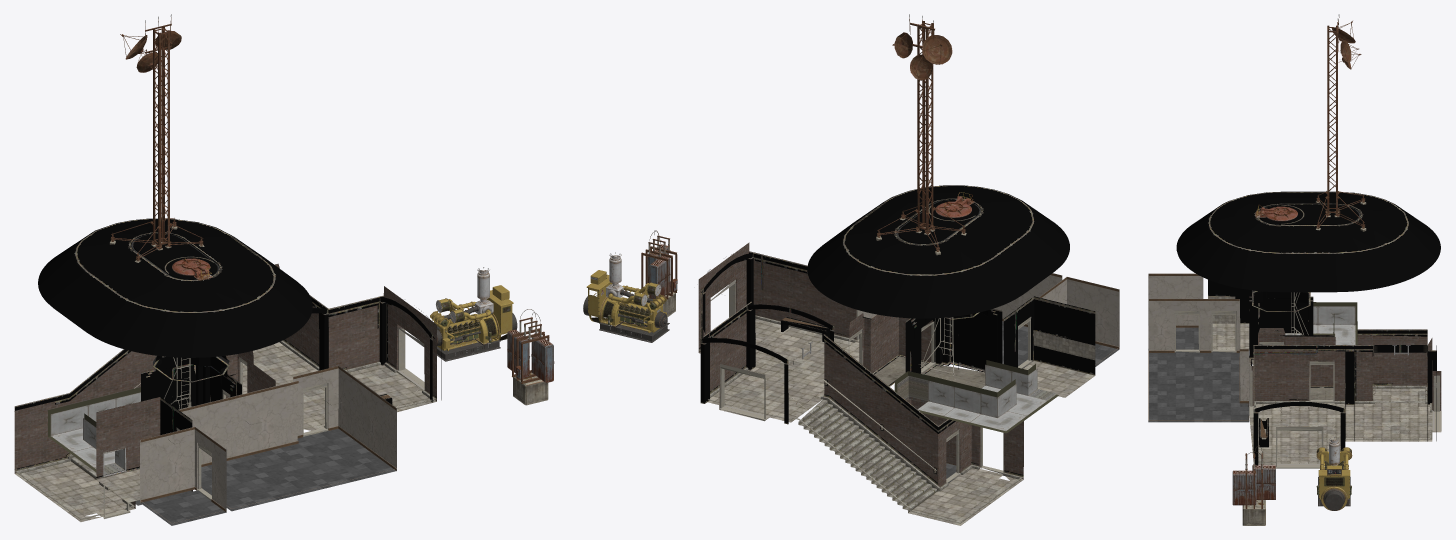
File: entrance_bunker_b-mid.glb
3 views of the same model, side by side, from view 1: azimuth 30°, elevation 25°; view 2: azimuth 150°, elevation 25°; view 3: azimuth 270°, elevation 25° (orthographic). The views are drawn at different scales.
Visible parts, largest first — view 1: stairwell_top_country_b_LOD0, antena_helipad_mast_LOD0, diesel_engine_LOD0, substation_c_LOD0, bunker_hatch; view 2: stairwell_top_country_b_LOD0, antena_helipad_mast_LOD0, diesel_engine_LOD0, substation_c_LOD0, bunker_hatch; view 3: stairwell_top_country_b_LOD0, antena_helipad_mast_LOD0, diesel_engine_LOD0, substation_c_LOD0, bunker_hatch.
Boxes of the visible parts, left/top/right/bottom form: stairwell_top_country_b_LOD0: left=14, top=218, right=441, bottom=525; antena_helipad_mast_LOD0: left=109, top=14, right=549, bottom=405; diesel_engine_LOD0: left=430, top=267, right=517, bottom=361; substation_c_LOD0: left=507, top=309, right=554, bottom=382; bunker_hatch: left=172, top=258, right=212, bottom=280; stairwell_top_country_b_LOD0: left=698, top=185, right=1119, bottom=525; antena_helipad_mast_LOD0: left=641, top=14, right=966, bottom=317; diesel_engine_LOD0: left=583, top=252, right=669, bottom=342; substation_c_LOD0: left=647, top=230, right=677, bottom=299; bunker_hatch: left=935, top=192, right=974, bottom=217; stairwell_top_country_b_LOD0: left=1148, top=191, right=1441, bottom=468; antena_helipad_mast_LOD0: left=1242, top=14, right=1366, bottom=525; diesel_engine_LOD0: left=1316, top=437, right=1352, bottom=510; substation_c_LOD0: left=1232, top=446, right=1275, bottom=505; bunker_hatch: left=1255, top=205, right=1297, bottom=221.
Bounding box in the file's own units: 24.87 × 24.6 × 16.
22 materials, 21 textured.
